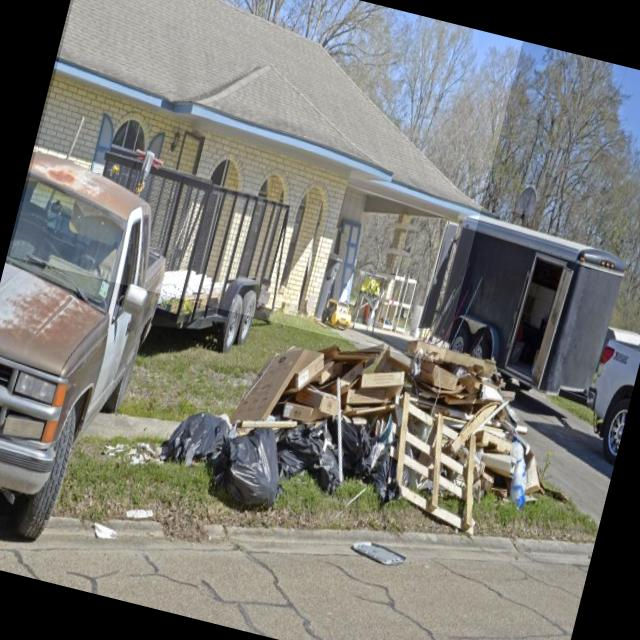House: (9, 0, 522, 364)
